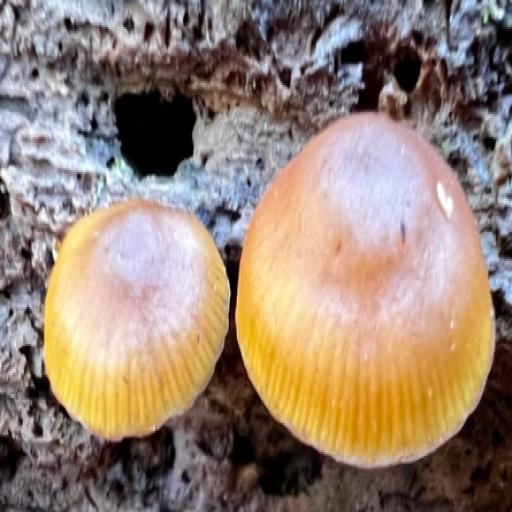mushroom: (236, 105, 502, 468), (37, 176, 234, 460)
